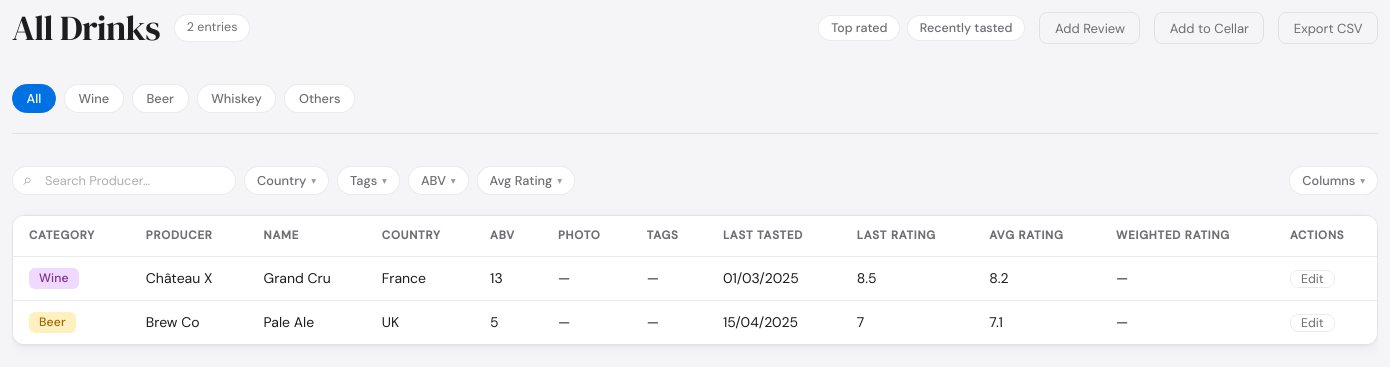
Test: clicking × on ABV chip clears ABV filter
expect the text "Grand Cru" is shown: met, box [248,256,366,300]
Click the button with test id "filter-abv".
click(438, 180)  # box [408,166,468,194]
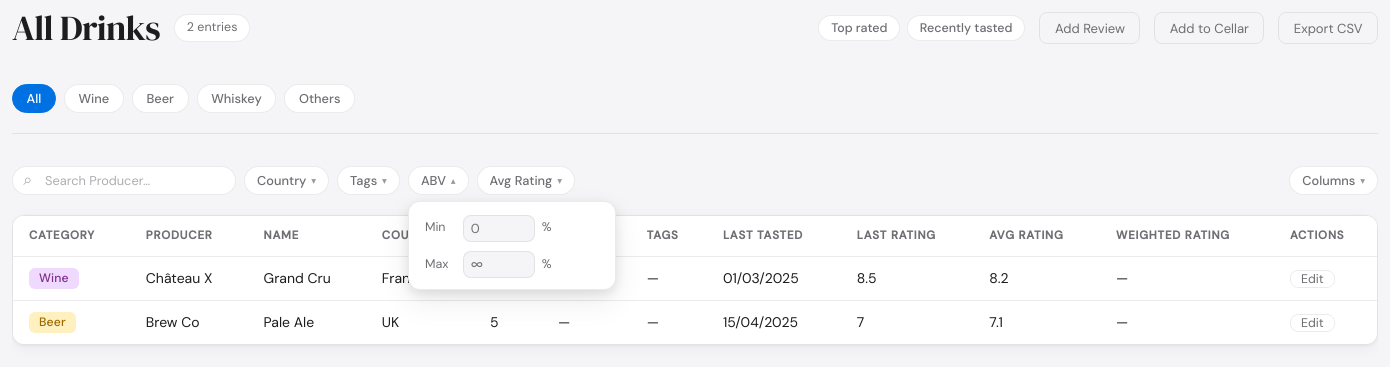
Type "10" into the number field with test id "abv-min".
click(499, 228); type("10")  # box [463,215,535,242]
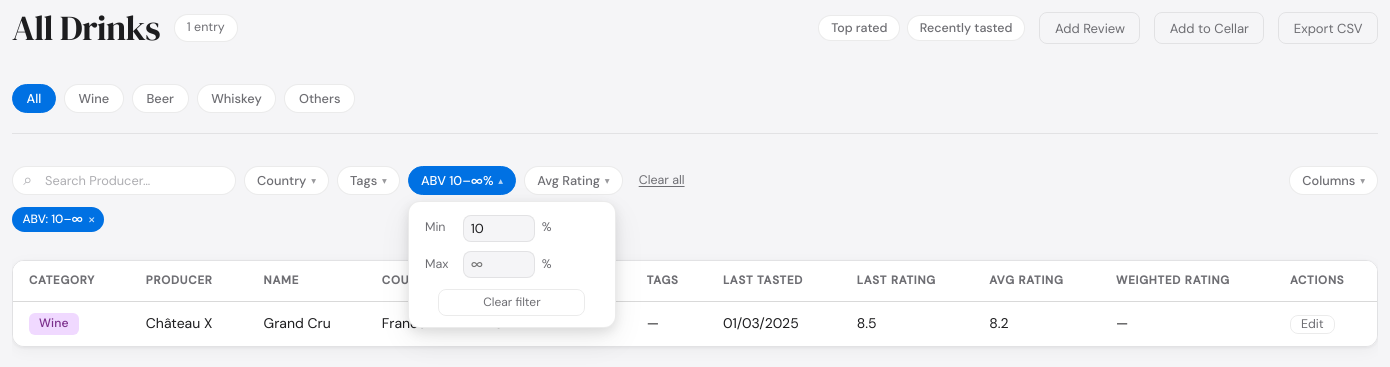
Click the button named "Remove ABV filter".
click(92, 219)  # box [88,212,96,226]
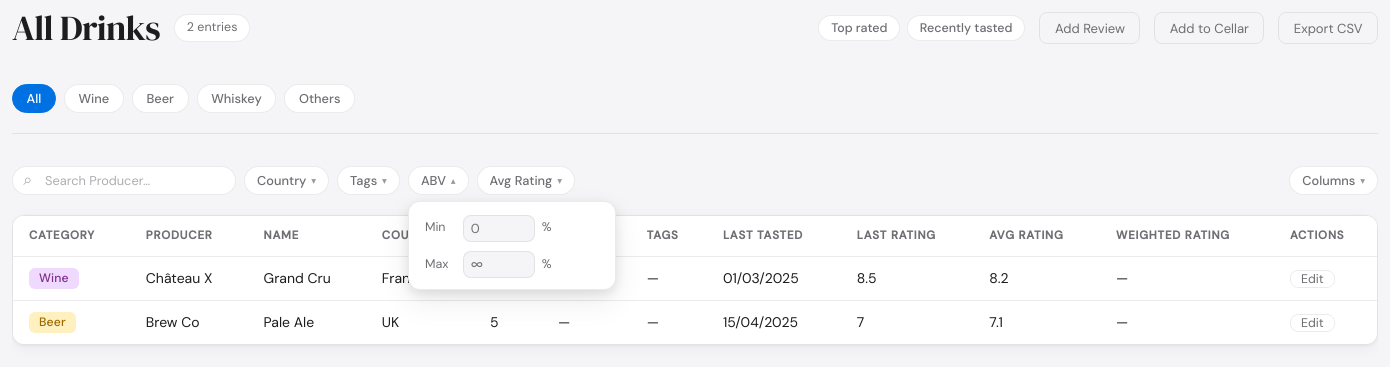
expect the element with class "filter-chips" is gone: met
